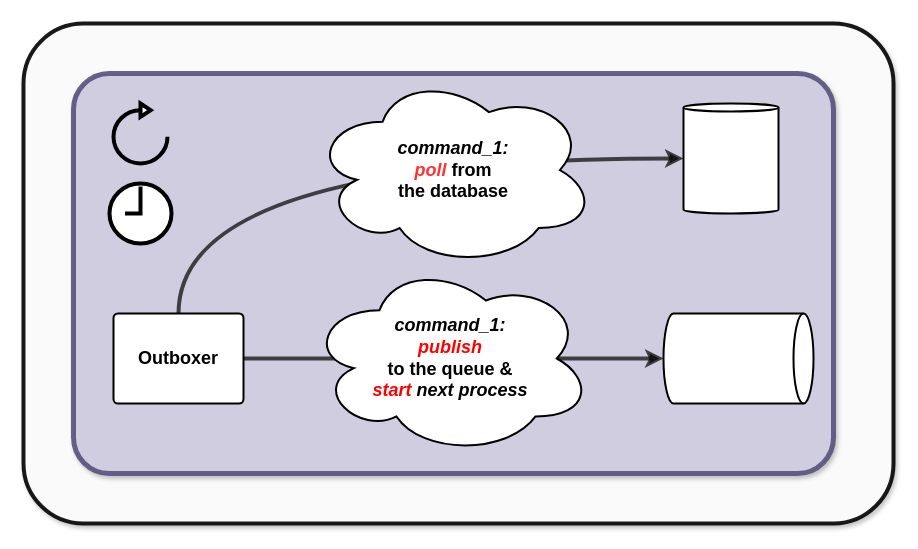
Some shapes in this 918 by 549 pixel diagram are drawn without their labels. The centre of each missing label's shape, as x and y in pixels:
"Database" belongs at point 730,158.
"Queue" belongs at point 738,358.
